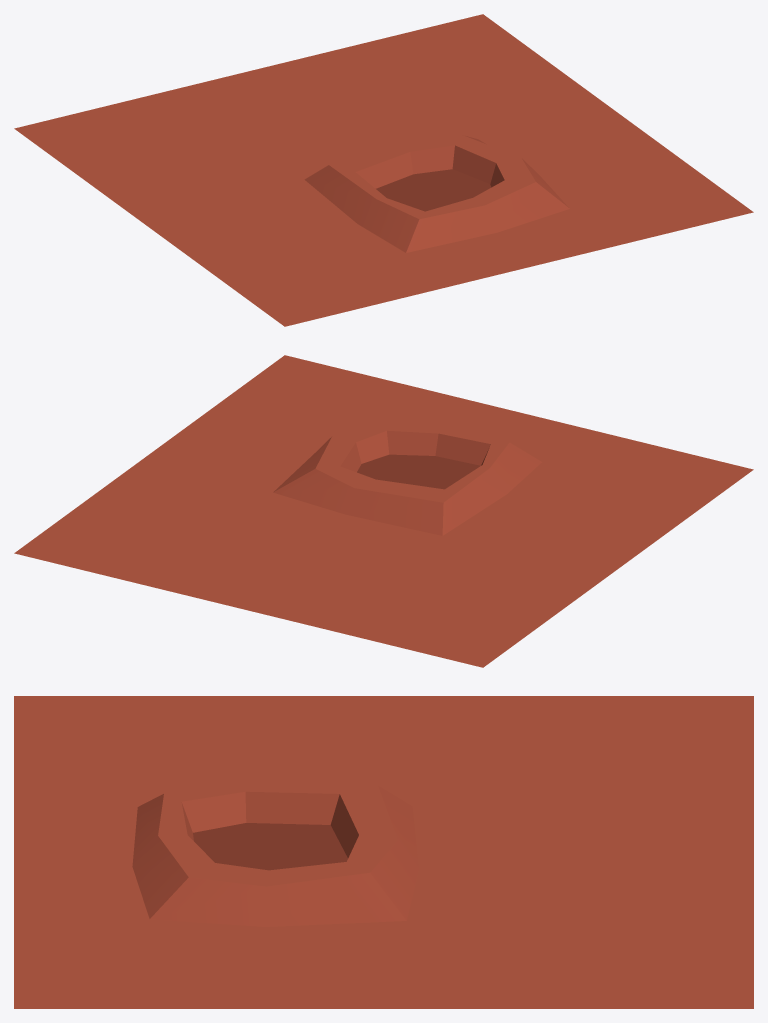
Rendered from SM_Env_Crater_04.fbx.
The picture shows the model from 3 angles, top to bottom: view 1: azimuth 30°, elevation 25°; view 2: azimuth 150°, elevation 25°; view 3: azimuth 270°, elevation 25°; orthographic projection. The views are drawn at different scales.
Visible parts, largest first — view 1: SM_Env_Crater_04; view 2: SM_Env_Crater_04; view 3: SM_Env_Crater_04.
Part boxes in pixels (bbox=[...]): SM_Env_Crater_04: bbox=[14, 14, 753, 326]; SM_Env_Crater_04: bbox=[14, 355, 753, 667]; SM_Env_Crater_04: bbox=[14, 696, 753, 1008].
Size of the model in its own units: 20 by 0.8606 by 20.
